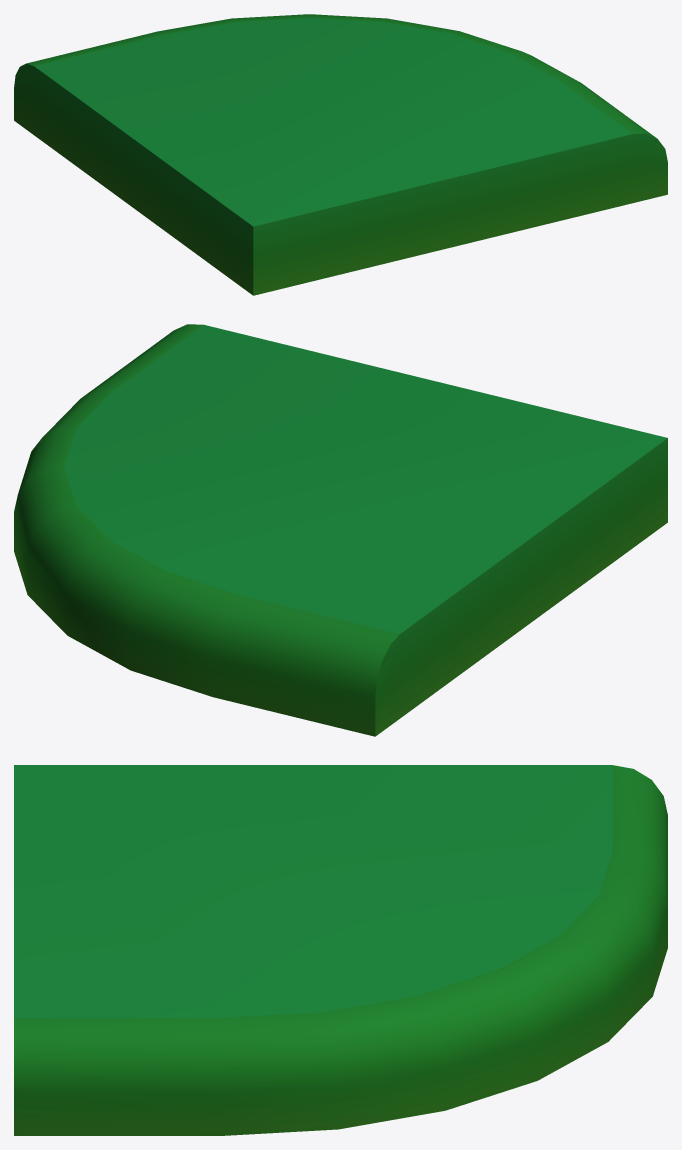
The model's file is GF_Corner_1_1.glb.
3 views of the same model, one above another, from view 1: azimuth 30°, elevation 25°; view 2: azimuth 150°, elevation 25°; view 3: azimuth 270°, elevation 25° (orthographic). The views are drawn at different scales.
Parts seen in each view (by area): view 1: GF_Corner_1_1; view 2: GF_Corner_1_1; view 3: GF_Corner_1_1.
Part boxes in pixels (<box>): GF_Corner_1_1: <box>14,14,667,295</box>; GF_Corner_1_1: <box>14,324,667,736</box>; GF_Corner_1_1: <box>14,765,667,1135</box>.
Bounding box in the file's own units: 2 × 0.3187 × 2.
1 material, 1 textured.
